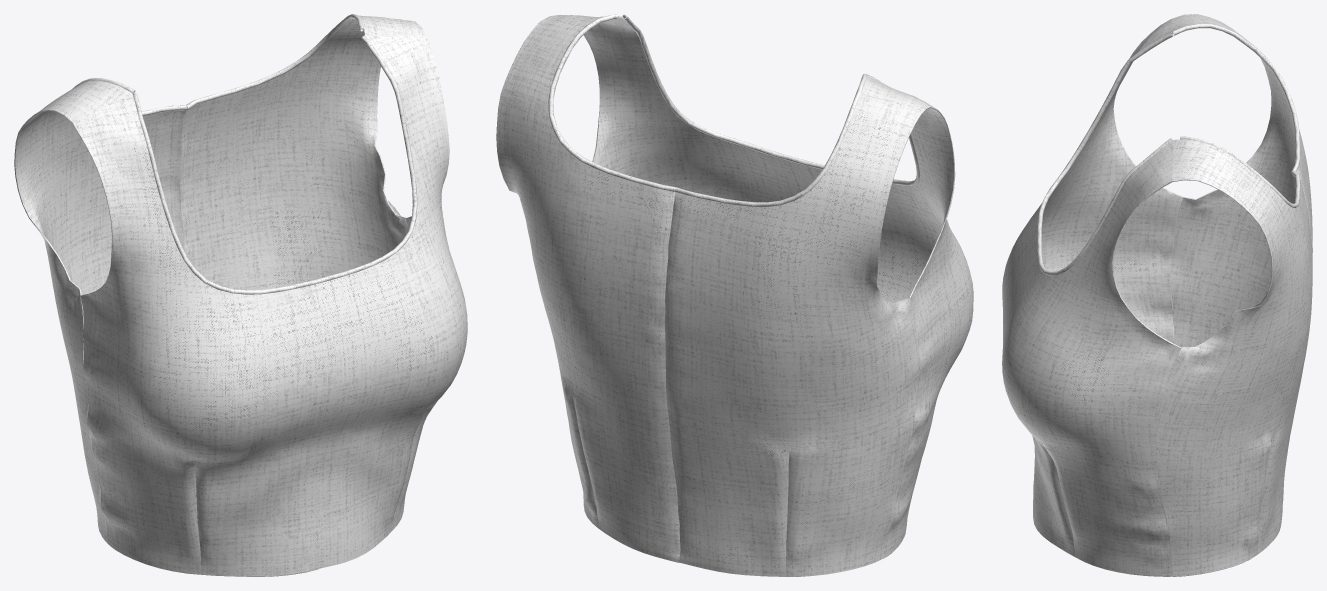
File: square.obj
The picture shows the model from 3 angles, left to right: view 1: azimuth 30°, elevation 25°; view 2: azimuth 150°, elevation 25°; view 3: azimuth 270°, elevation 25°; orthographic projection. The views are drawn at different scales.
Bounding box in the file's own units: 305 × 361 × 234.
1 material, 1 textured.
